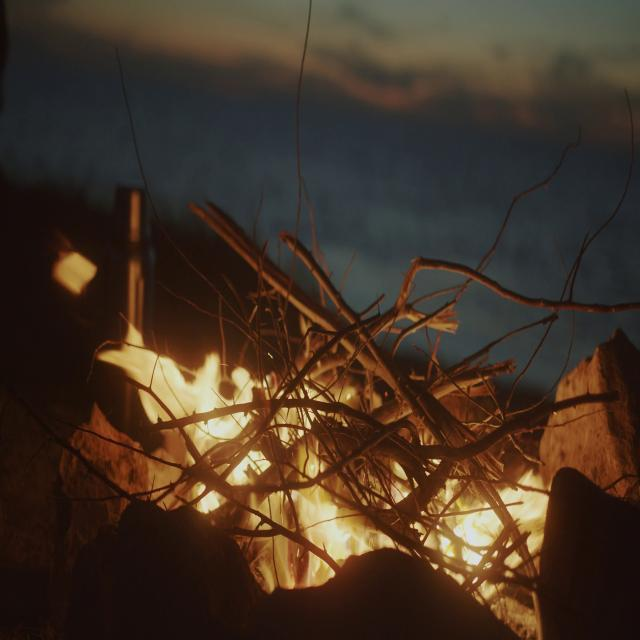Fire: (156, 338, 454, 597), (404, 457, 538, 586)
